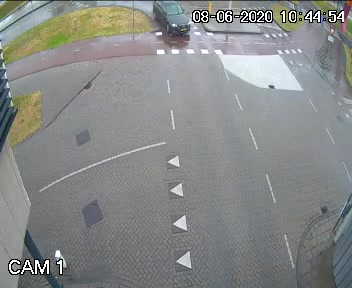car: (147, 0, 197, 50)
